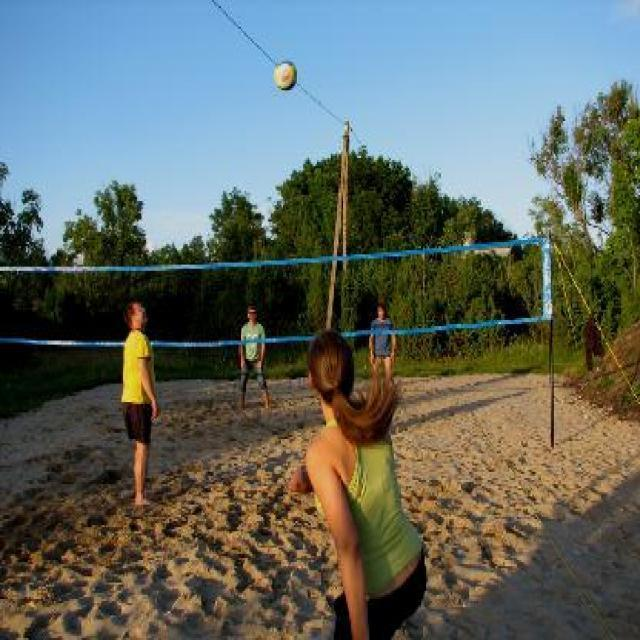volleyball: (272, 62, 298, 92)
